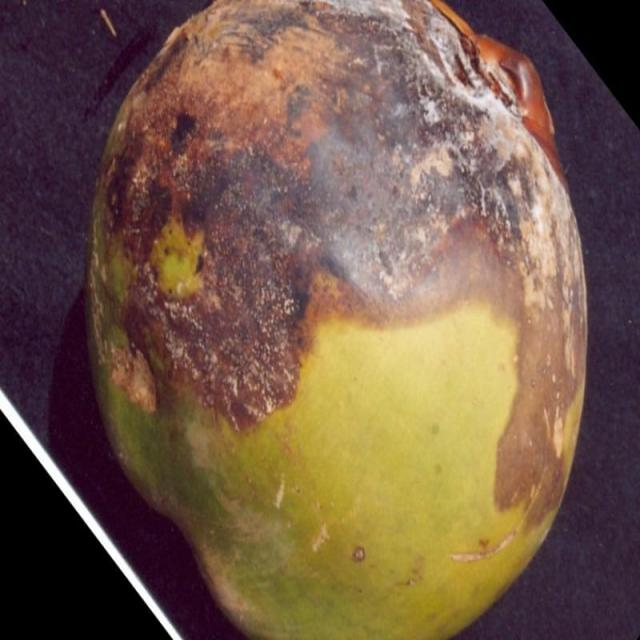damaged: (81, 0, 589, 639)
